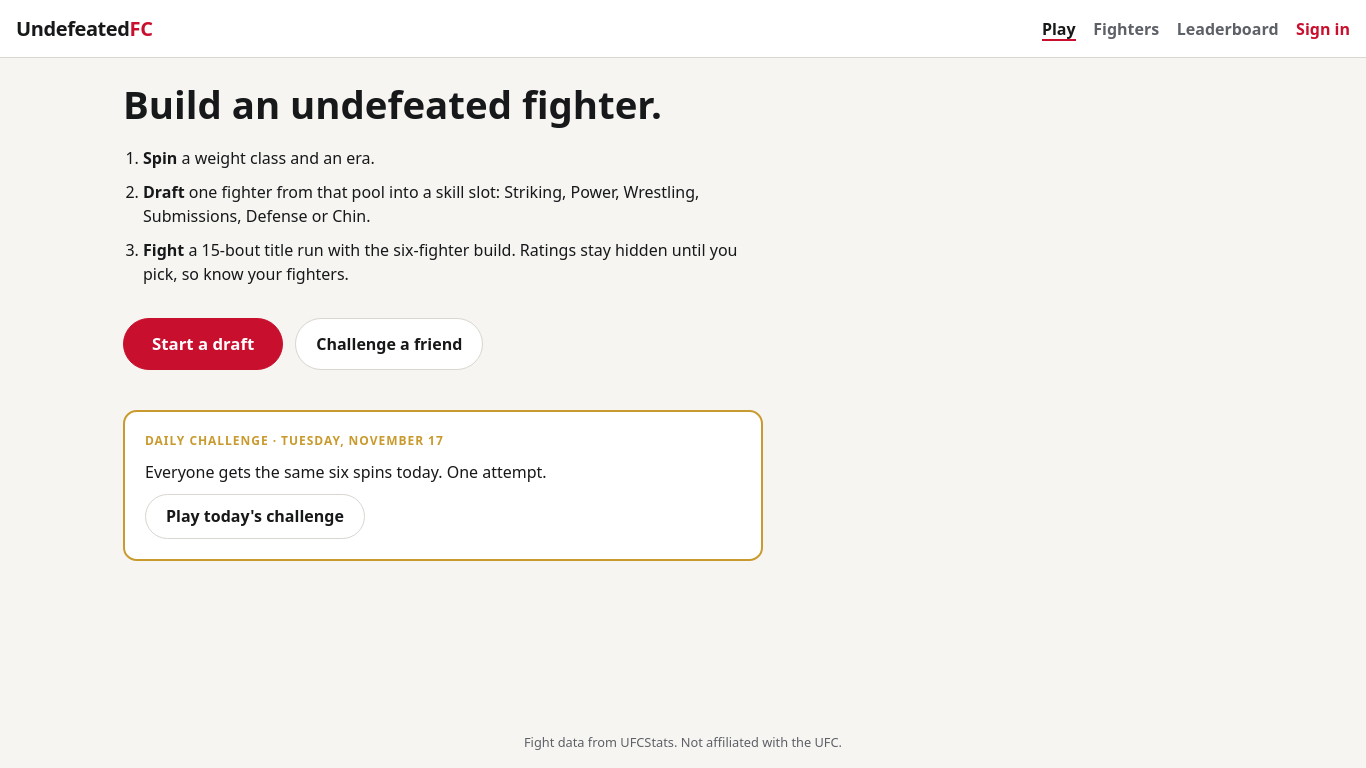
Test case: shows the server message when a draft cannot be started
Click the button "Start a draft" at (203, 344), box 123,318 -> 283,370
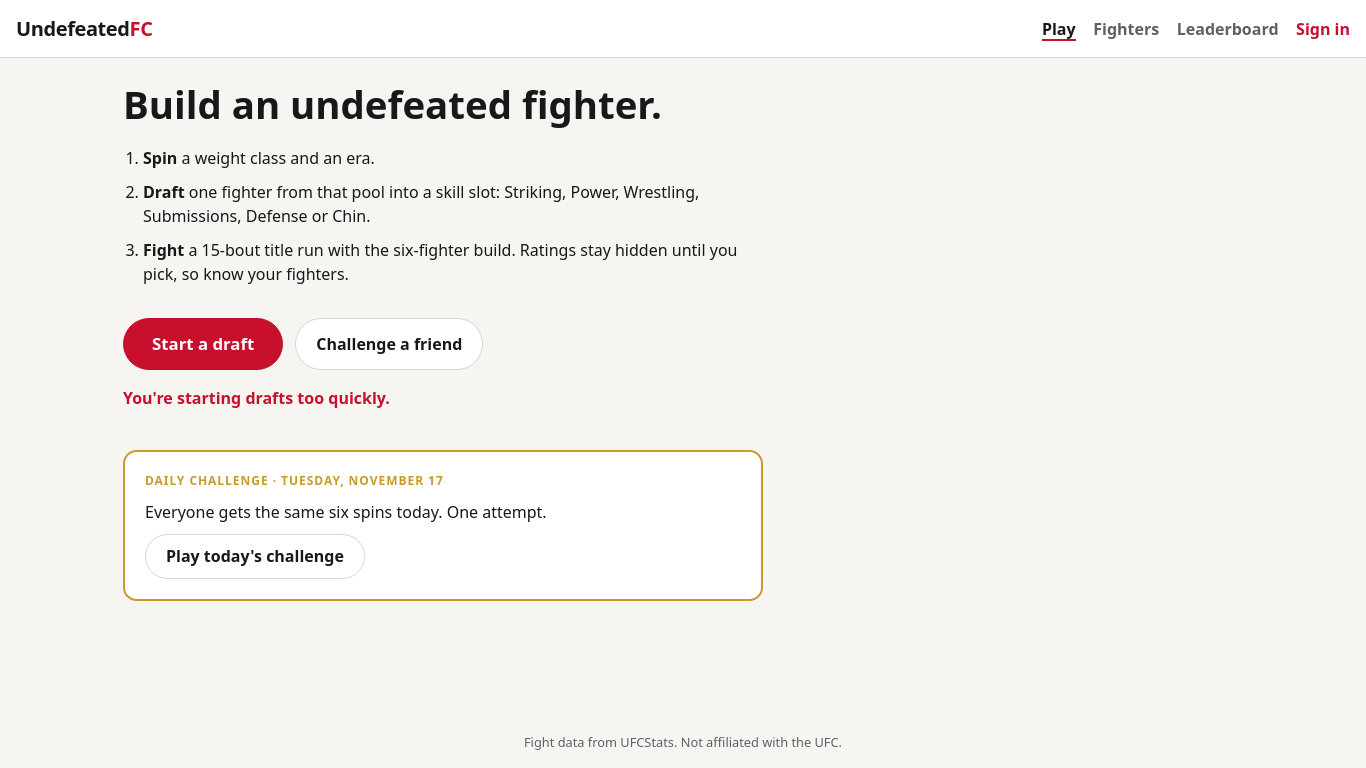
Check: the message reads "You're starting drafts too quickly.", box 123,387 -> 390,409
